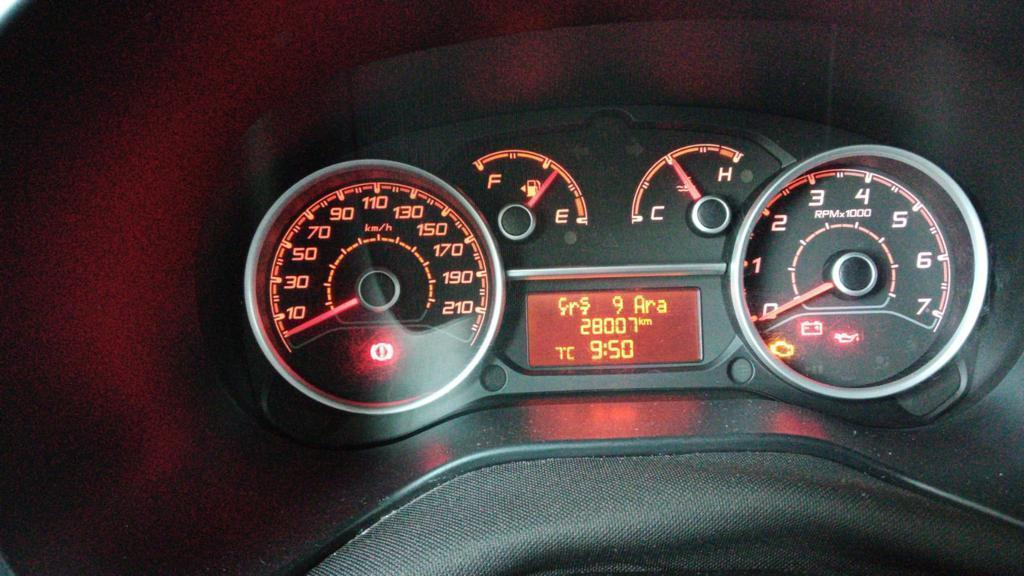0: (621, 338, 634, 359), (614, 316, 626, 334), (603, 316, 614, 334)
2: (580, 317, 591, 335)
5: (608, 339, 621, 359)
7: (627, 316, 638, 333), (554, 345, 562, 360)
8: (592, 316, 603, 334)
9: (612, 294, 624, 314), (590, 339, 602, 359)
X: (633, 293, 645, 313), (557, 295, 568, 316), (580, 296, 590, 315), (569, 300, 579, 316), (645, 299, 656, 313), (566, 345, 576, 359), (657, 298, 666, 313), (603, 341, 607, 357), (644, 317, 651, 325), (638, 316, 643, 325)
odometer: (519, 284, 709, 369)
